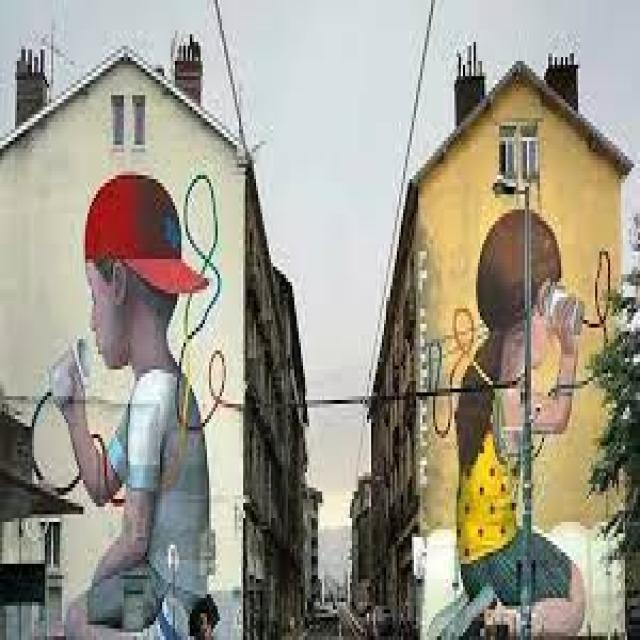-: (24, 169, 241, 635), (420, 206, 610, 637)
